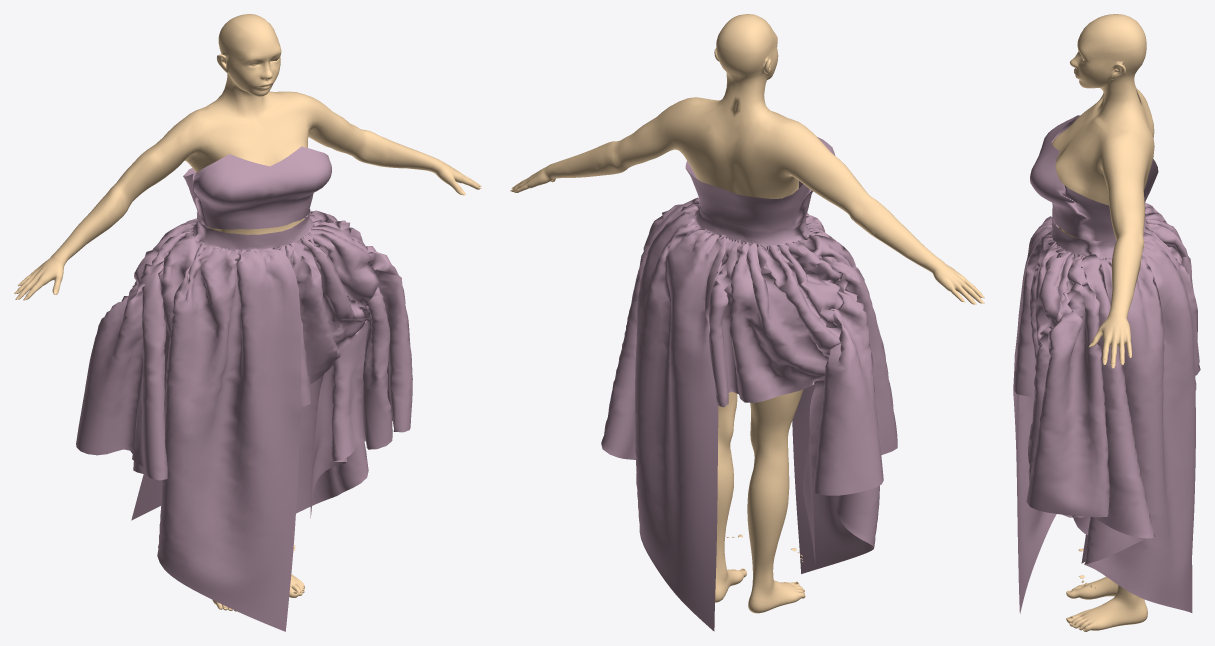
File: dress8.glb
The picture shows the model from 3 angles, left to right: view 1: azimuth 30°, elevation 25°; view 2: azimuth 150°, elevation 25°; view 3: azimuth 270°, elevation 25°; orthographic projection. The views are drawn at different scales.
Visible parts, largest first — view 1: Project 1, Body.003; view 2: Project 1, Body.003; view 3: Project 1, Body.003.
Boxes of the visible parts, x1,y1,x2,y2 form: Project 1: (76, 146, 412, 631); Body.003: (16, 14, 480, 611); Project 1: (601, 137, 897, 631); Body.003: (511, 14, 982, 613); Project 1: (1013, 115, 1200, 613); Body.003: (1052, 14, 1154, 631).
Bounding box in the file's own units: 1.58 × 1.87 × 0.5278.
